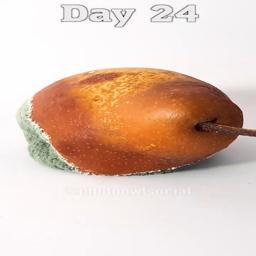Pear Rotten: (11, 65, 256, 177)
